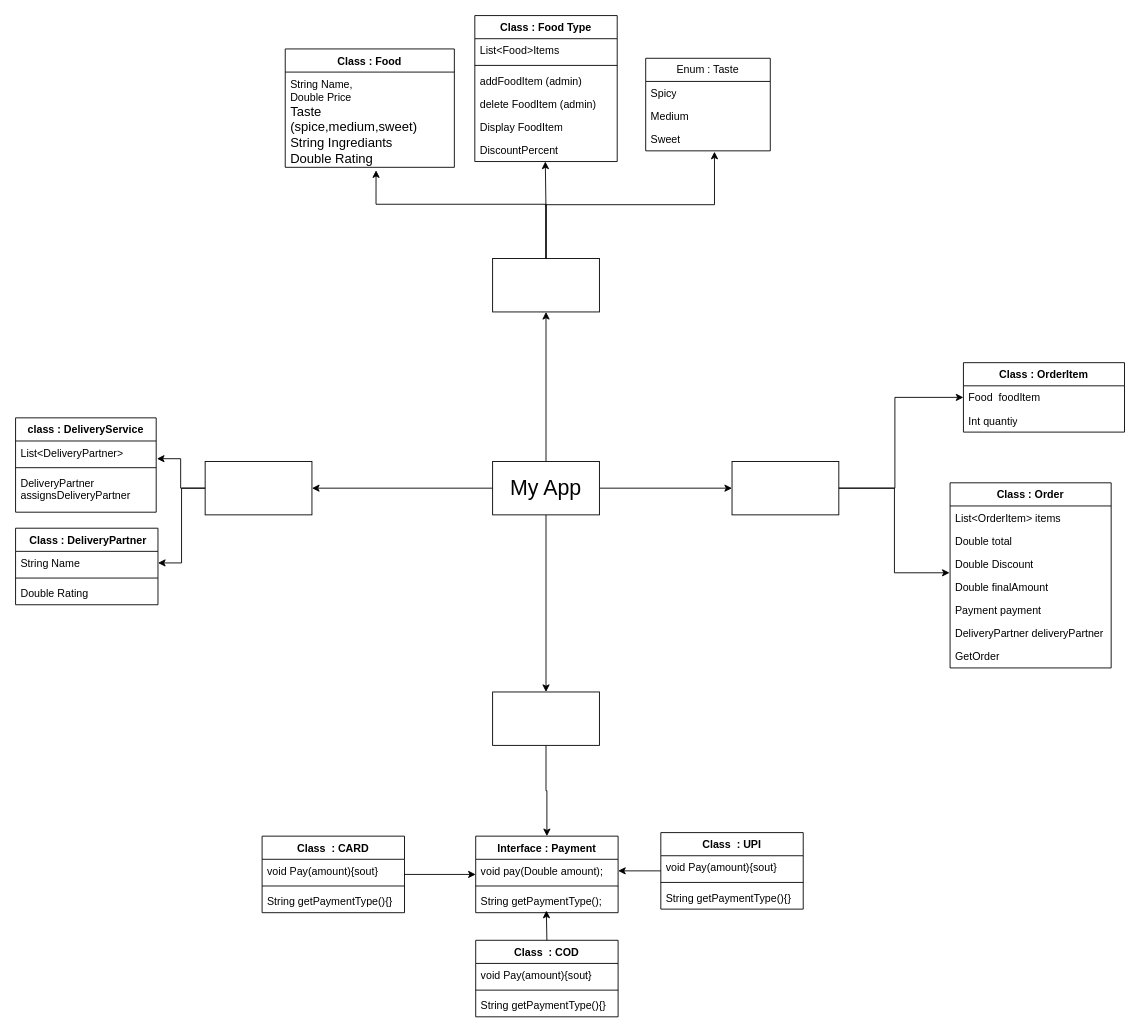
Image size: 1140x1035. Some labels were removed from this diagram. The centre of each missing label's shape, as x and y in pixels:
Delivery: the point at 258,488
Menu: the point at 545,285
Order: the point at 785,488
Payment: the point at 545,718
